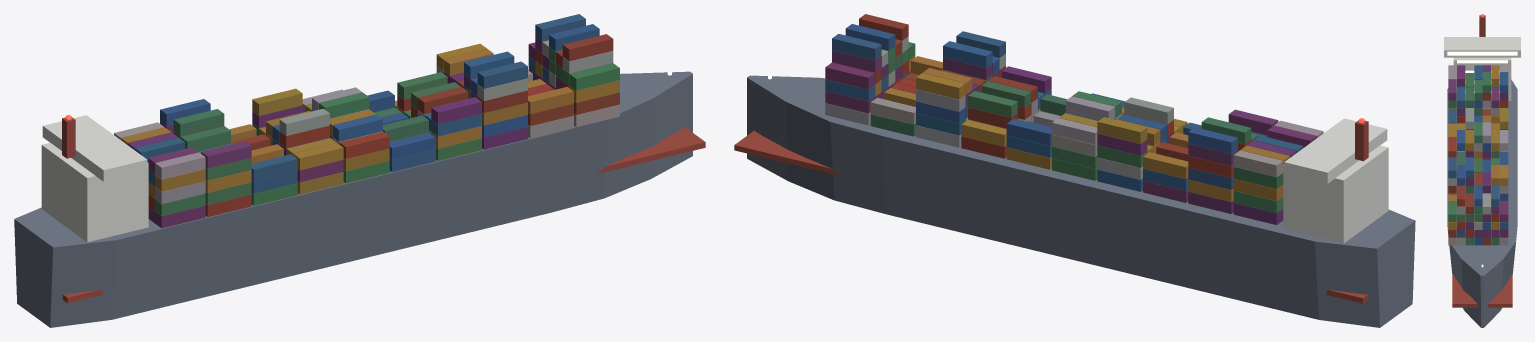
File: ship.glb
The picture shows the model from 3 angles, left to right: view 1: azimuth 30°, elevation 25°; view 2: azimuth 150°, elevation 25°; view 3: azimuth 270°, elevation 25°; orthographic projection. The views are drawn at different scales.
Visible parts, largest first — view 1: hull, deckboxes, bridge, boot; view 2: hull, deckboxes, bridge, boot; view 3: deckboxes, hull, bridge, boot, windows.
Boxes of the visible parts, x1=… form: hull: x1=14, y1=71, x2=692, y2=327; deckboxes: x1=114, y1=14, x2=619, y2=228; bridge: x1=41, y1=115, x2=148, y2=242; boot: x1=62, y1=127, x2=705, y2=303; hull: x1=747, y1=75, x2=1415, y2=327; deckboxes: x1=825, y1=14, x2=1323, y2=224; bridge: x1=1283, y1=118, x2=1388, y2=243; boot: x1=734, y1=131, x2=1367, y2=303; deckboxes: x1=1448, y1=65, x2=1508, y2=245; hull: x1=1447, y1=79, x2=1517, y2=327; bridge: x1=1444, y1=15, x2=1520, y2=100; boot: x1=1452, y1=274, x2=1512, y2=307; windows: x1=1447, y1=51, x2=1517, y2=93.
Size of the model in its own units: 150 by 41.7 by 24.
